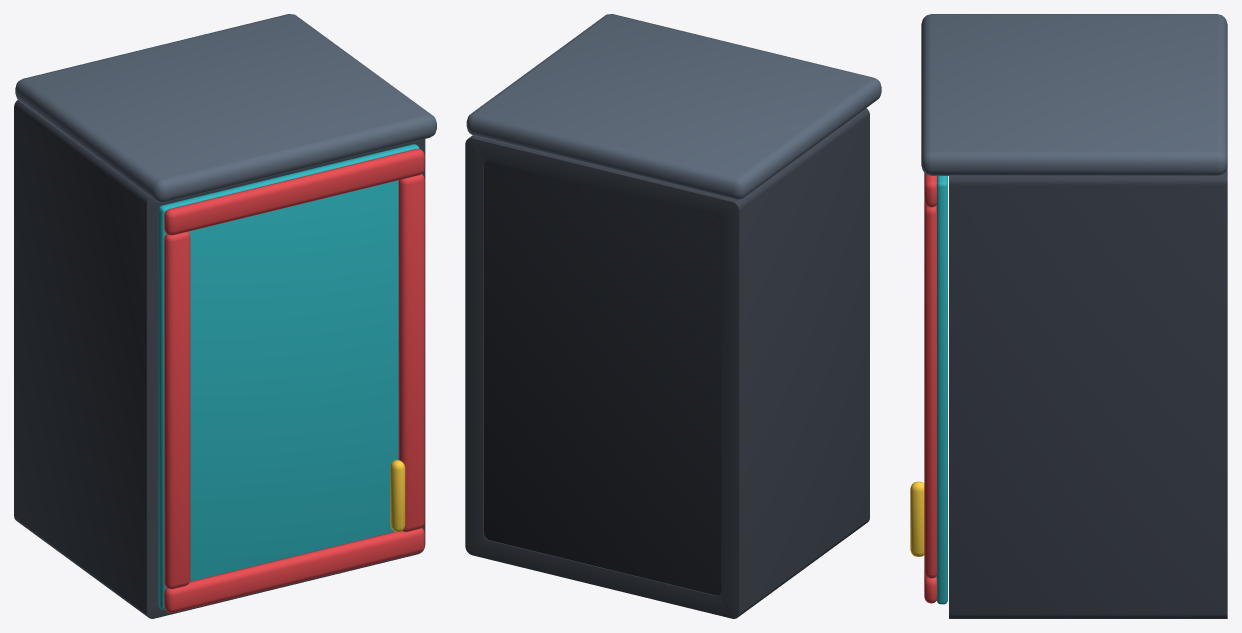
Rendered from armario_parede_1porta_grafite.glb.
The picture shows the model from 3 angles, left to right: view 1: azimuth 30°, elevation 25°; view 2: azimuth 150°, elevation 25°; view 3: azimuth 270°, elevation 25°; orthographic projection. The views are drawn at different scales.
Visible parts, largest first — view 1: armario_parede_1porta_grafite, porta_1; view 2: armario_parede_1porta_grafite; view 3: armario_parede_1porta_grafite, porta_1.
Part boxes in pixels (x1,y1,x2,y2): armario_parede_1porta_grafite: (14,14,436,618); porta_1: (158,144,424,612); armario_parede_1porta_grafite: (465,14,881,618); armario_parede_1porta_grafite: (921,14,1227,618); porta_1: (910,173,947,604).
Bounding box in the file's own units: 0.398 × 0.6 × 0.3687.
Materials: 1 (1 with a texture image).
